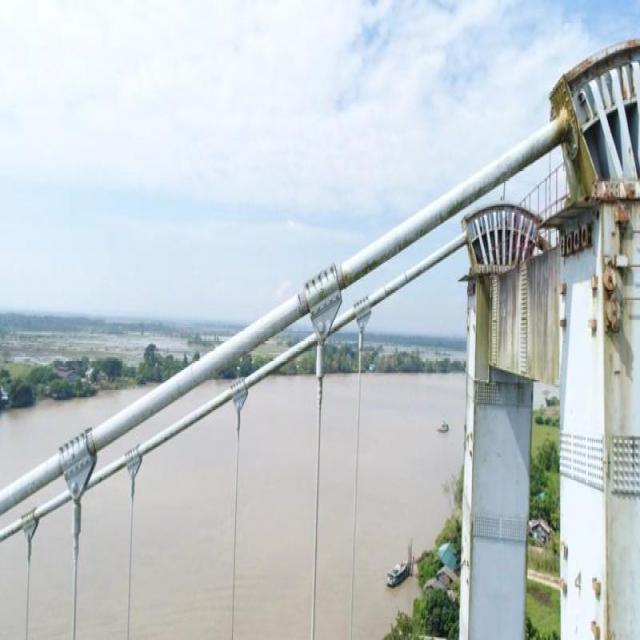Slippage: (298, 290, 310, 315), (336, 264, 346, 290), (86, 432, 95, 455)
